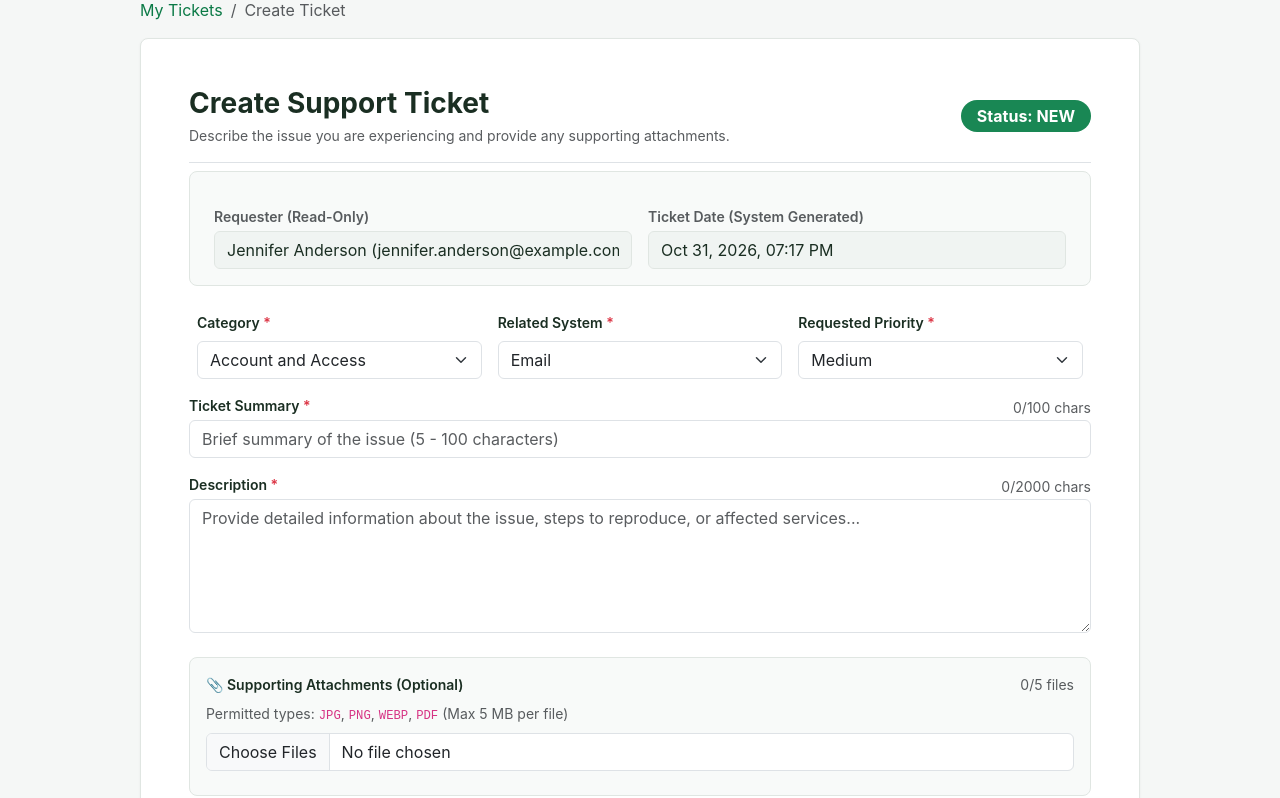
CreateTicket Component › preserves form values when API fails with server error
Type "VPN connectivity lost" into the field with placeholder "Brief summary of the issue (5 - 100 characters)" at (640, 439), box [189,420,1091,458]
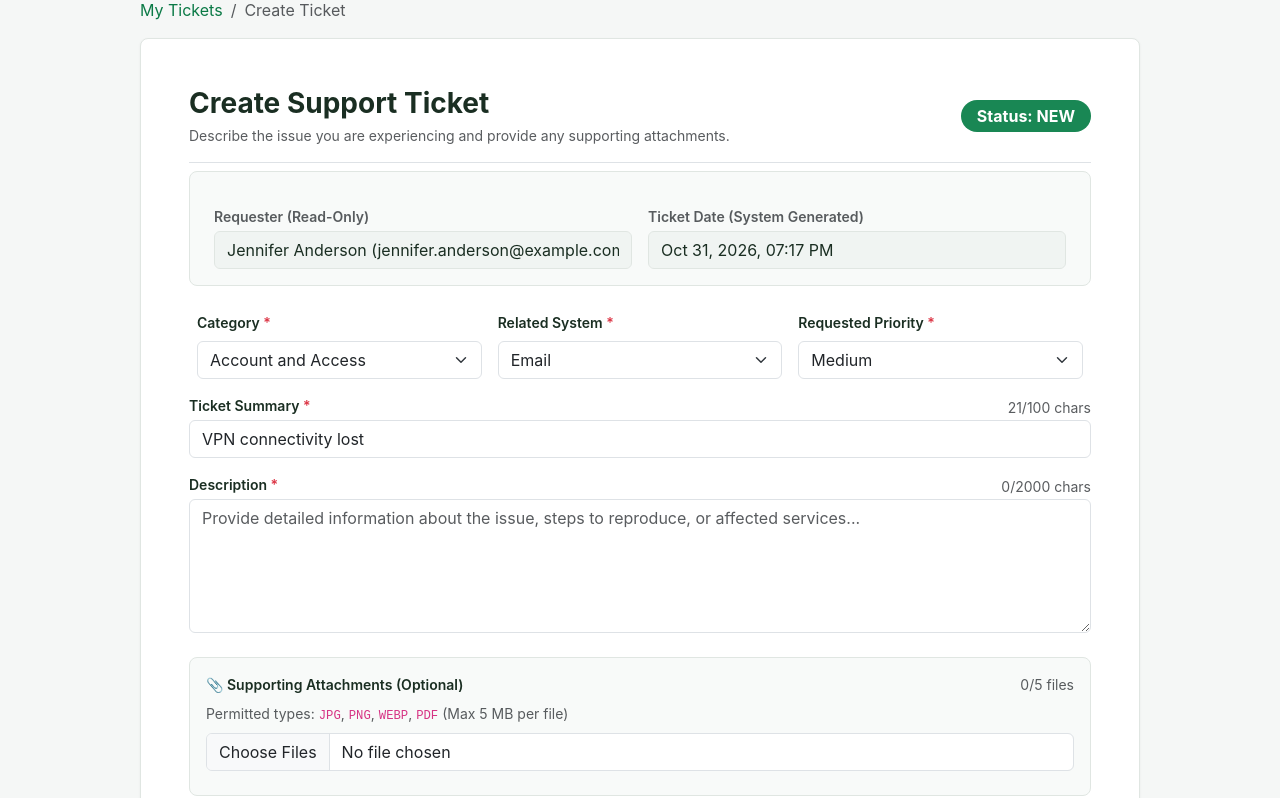
Replace the text in the text box with placeholder "Provide detailed information" with "Unable to authenticate through the campus VPN gateway." at (640, 566), box [189,499,1091,633]
(page scrolled)
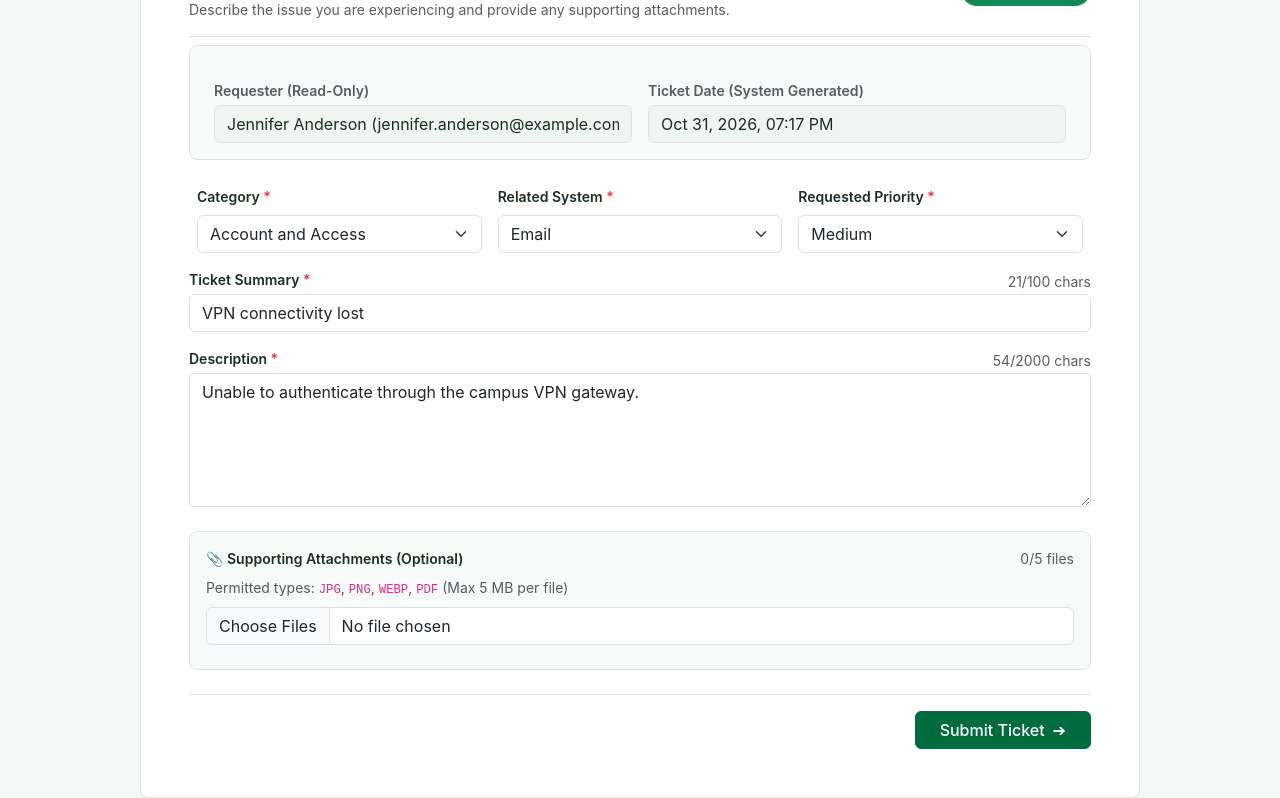
Click the button "Submit Ticket ➔" at (1003, 730), box [915,711,1091,749]
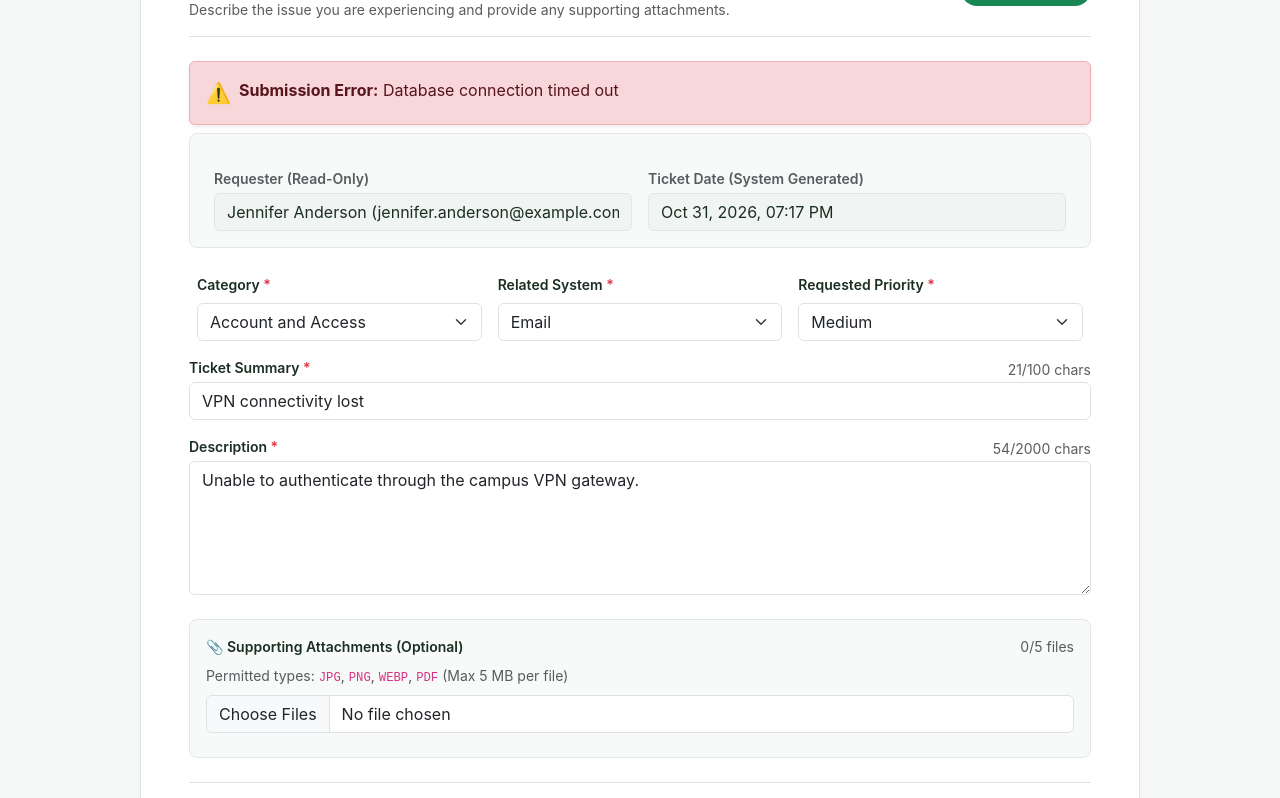
Result: the text "Submission Error:" is shown at [239,80,378,100]
Result: the text "Submission Error: Database connection timed out" is shown at [239,78,619,102]
